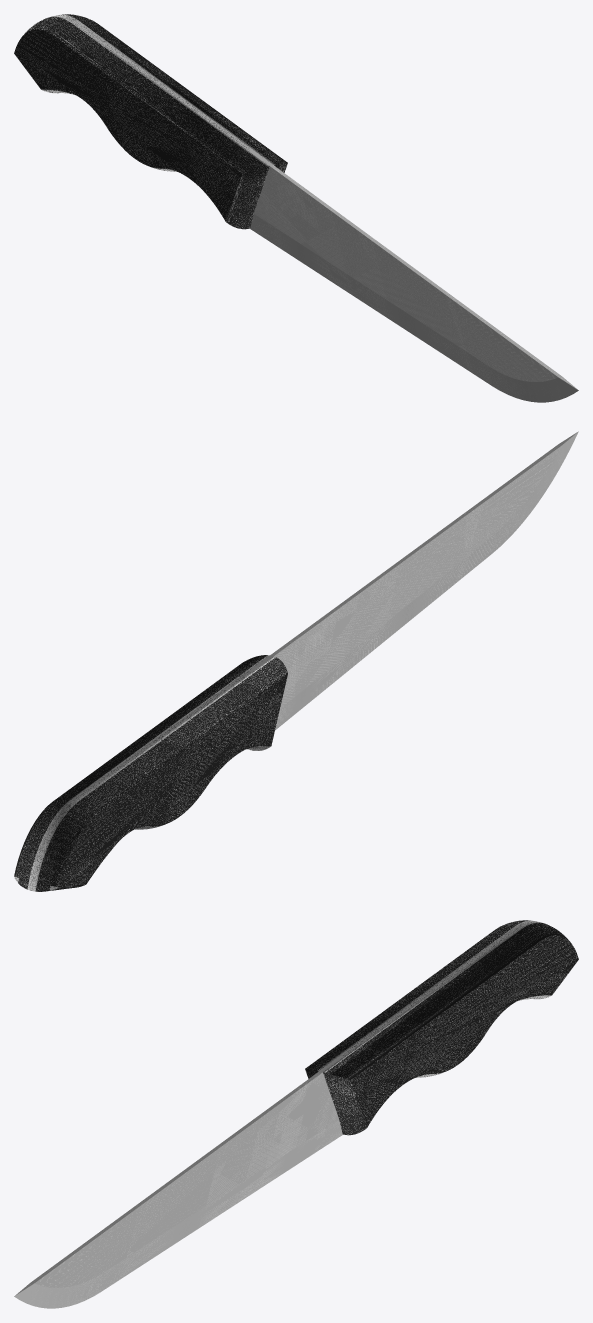
File: model_scale.obj
The picture shows the model from 3 angles, top to bottom: view 1: azimuth 30°, elevation 25°; view 2: azimuth 150°, elevation 25°; view 3: azimuth 330°, elevation 25°; orthographic projection.
Visible parts, largest first — view 1: mesh1_mesh1-geometry; view 2: mesh1_mesh1-geometry; view 3: mesh1_mesh1-geometry.
Part boxes in pixels (x1,y1,x2,y2): mesh1_mesh1-geometry: (14,14,578,402); mesh1_mesh1-geometry: (14,431,578,891); mesh1_mesh1-geometry: (14,920,578,1308).
Bounding box in the file's own units: 0.011 × 0.0183 × 0.2294.
Materials: 8 (1 with a texture image).
